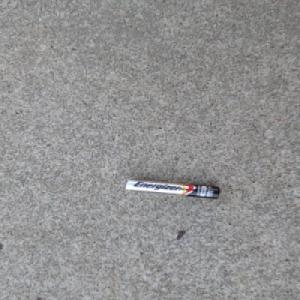Battery: (122, 177, 223, 199)
